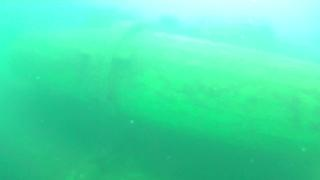pipe: (1, 11, 320, 159)
